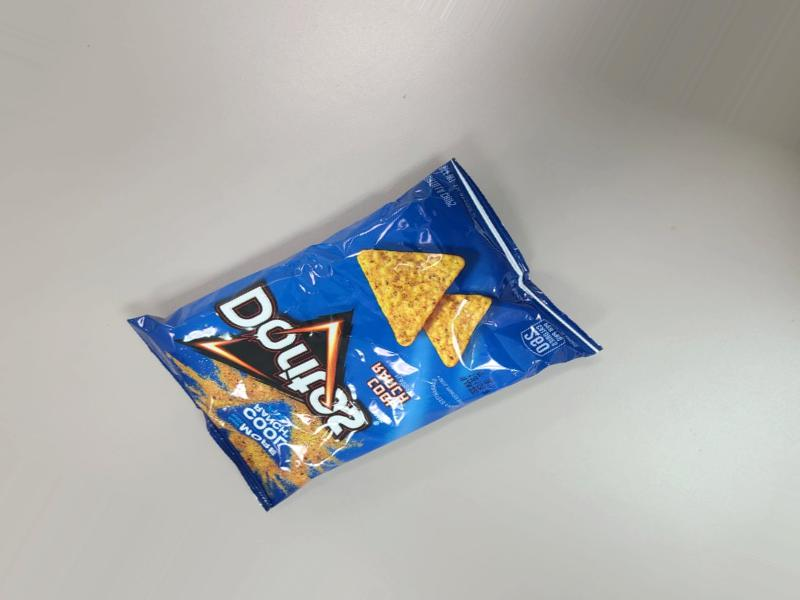doritos: (218, 201, 569, 533)
